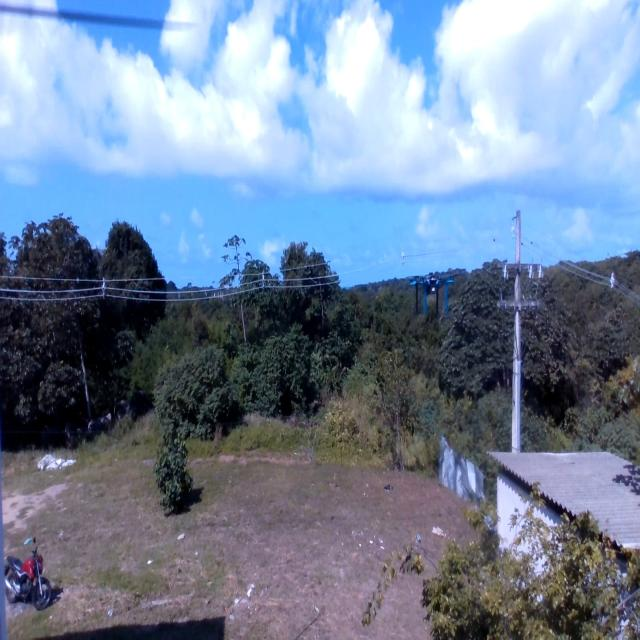-uav-: (407, 256, 461, 340)
